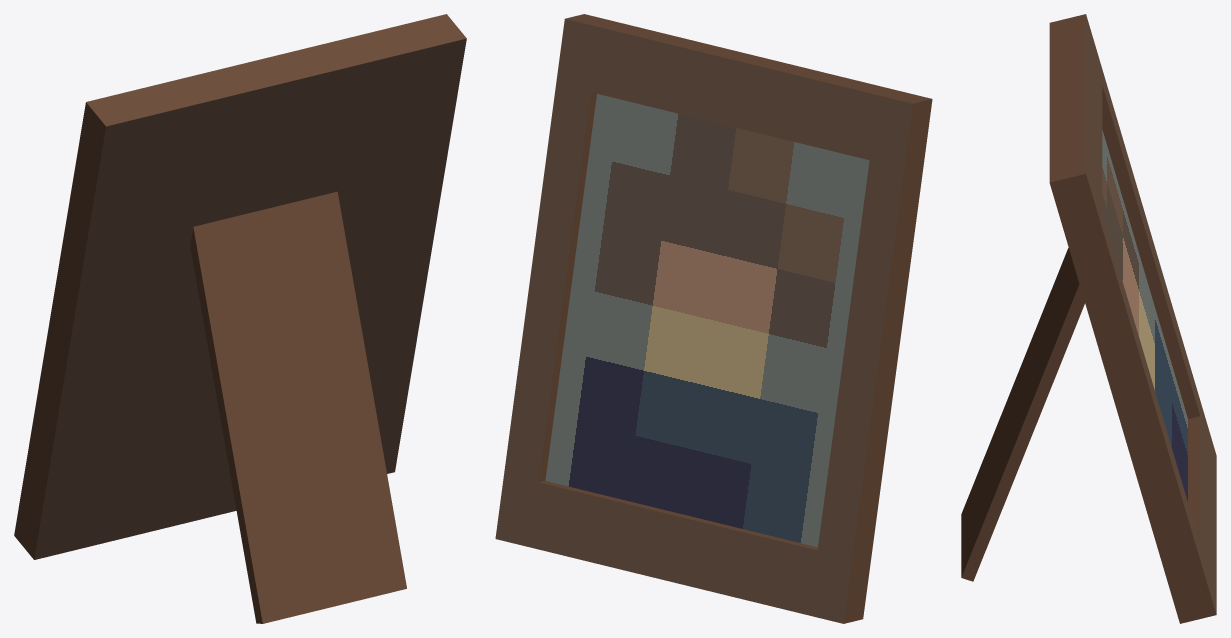
File: photo frame.fbx
The picture shows the model from 3 angles, left to right: view 1: azimuth 30°, elevation 25°; view 2: azimuth 150°, elevation 25°; view 3: azimuth 270°, elevation 25°; orthographic projection. The views are drawn at different scales.
Visible parts, largest first — view 1: cube_1, cube, cube_4, cube_5; view 2: cube_1, cube_4, cube_2, cube_5, cube_3; view 3: cube_1, cube, cube_2, cube_4, cube_5, cube_3.
Boxes of the visible parts, bbox=[...] form: cube_1: bbox=[21, 22, 466, 559]; cube: bbox=[190, 191, 406, 623]; cube_4: bbox=[14, 93, 128, 543]; cube_5: bbox=[122, 23, 416, 101]; cube_1: bbox=[545, 14, 932, 622]; cube_4: bbox=[809, 93, 919, 623]; cube_2: bbox=[495, 17, 605, 547]; cube_5: bbox=[591, 25, 883, 160]; cube_3: bbox=[530, 481, 817, 615]; cube_1: bbox=[1049, 17, 1204, 623]; cube: bbox=[961, 248, 1084, 581]; cube_2: bbox=[1074, 158, 1216, 617]; cube_4: bbox=[1074, 14, 1216, 470]; cube_5: bbox=[1074, 30, 1102, 211]; cube_3: bbox=[1188, 416, 1216, 598].
Size of the model in its own units: 18.75 by 24.95 by 12.65.
Materials: 1 (1 with a texture image).
